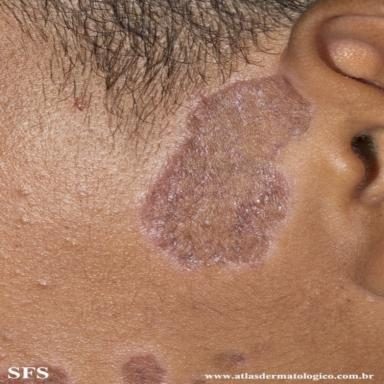Lupus-Erythematosus-Chronicus-Discoides: (143, 75, 310, 265), (122, 355, 165, 384)
